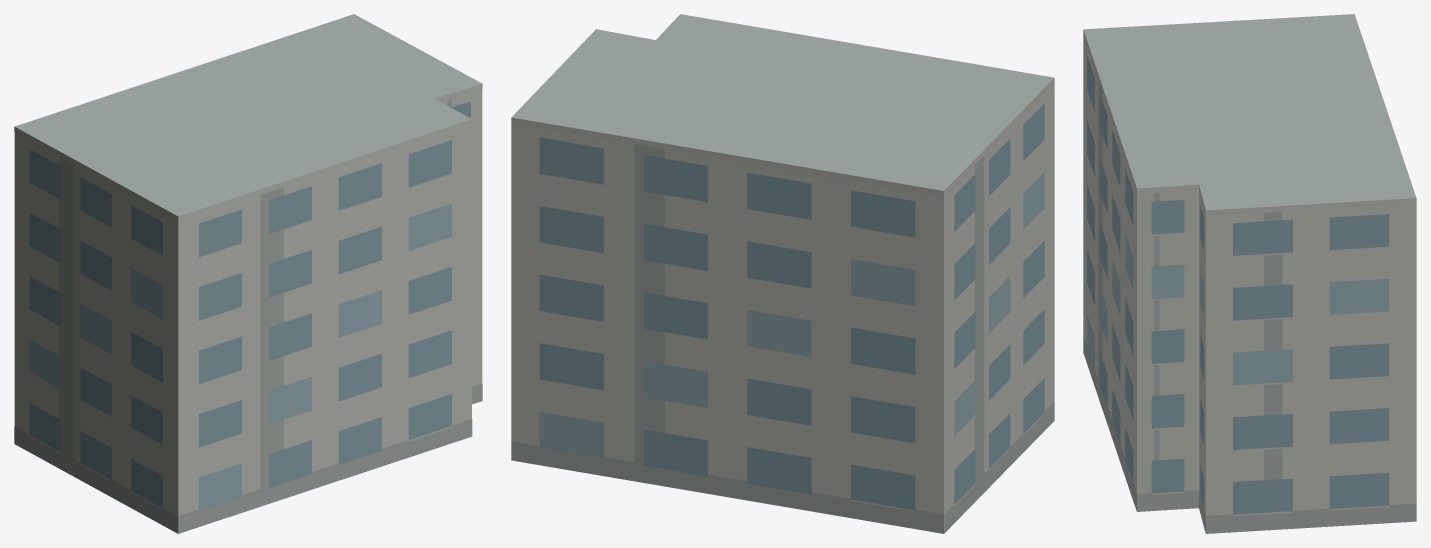
The model's file is survey-upis-32706778.glb.
The picture shows the model from 3 angles, left to right: view 1: azimuth 30°, elevation 25°; view 2: azimuth 150°, elevation 25°; view 3: azimuth 270°, elevation 25°; orthographic projection. The views are drawn at different scales.
Visible parts, largest first — view 1: survey-upis-32706778.tmp; view 2: survey-upis-32706778.tmp; view 3: survey-upis-32706778.tmp.
Boxes of the visible parts, <box> form: survey-upis-32706778.tmp: <box>14,14,482,533</box>; survey-upis-32706778.tmp: <box>511,14,1054,533</box>; survey-upis-32706778.tmp: <box>1083,14,1416,533</box>.
Size of the model in its own units: 18.24 by 14 by 13.08.
